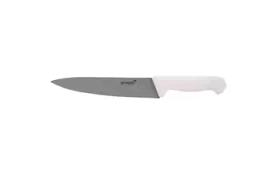Knife: (50, 75, 226, 98)
